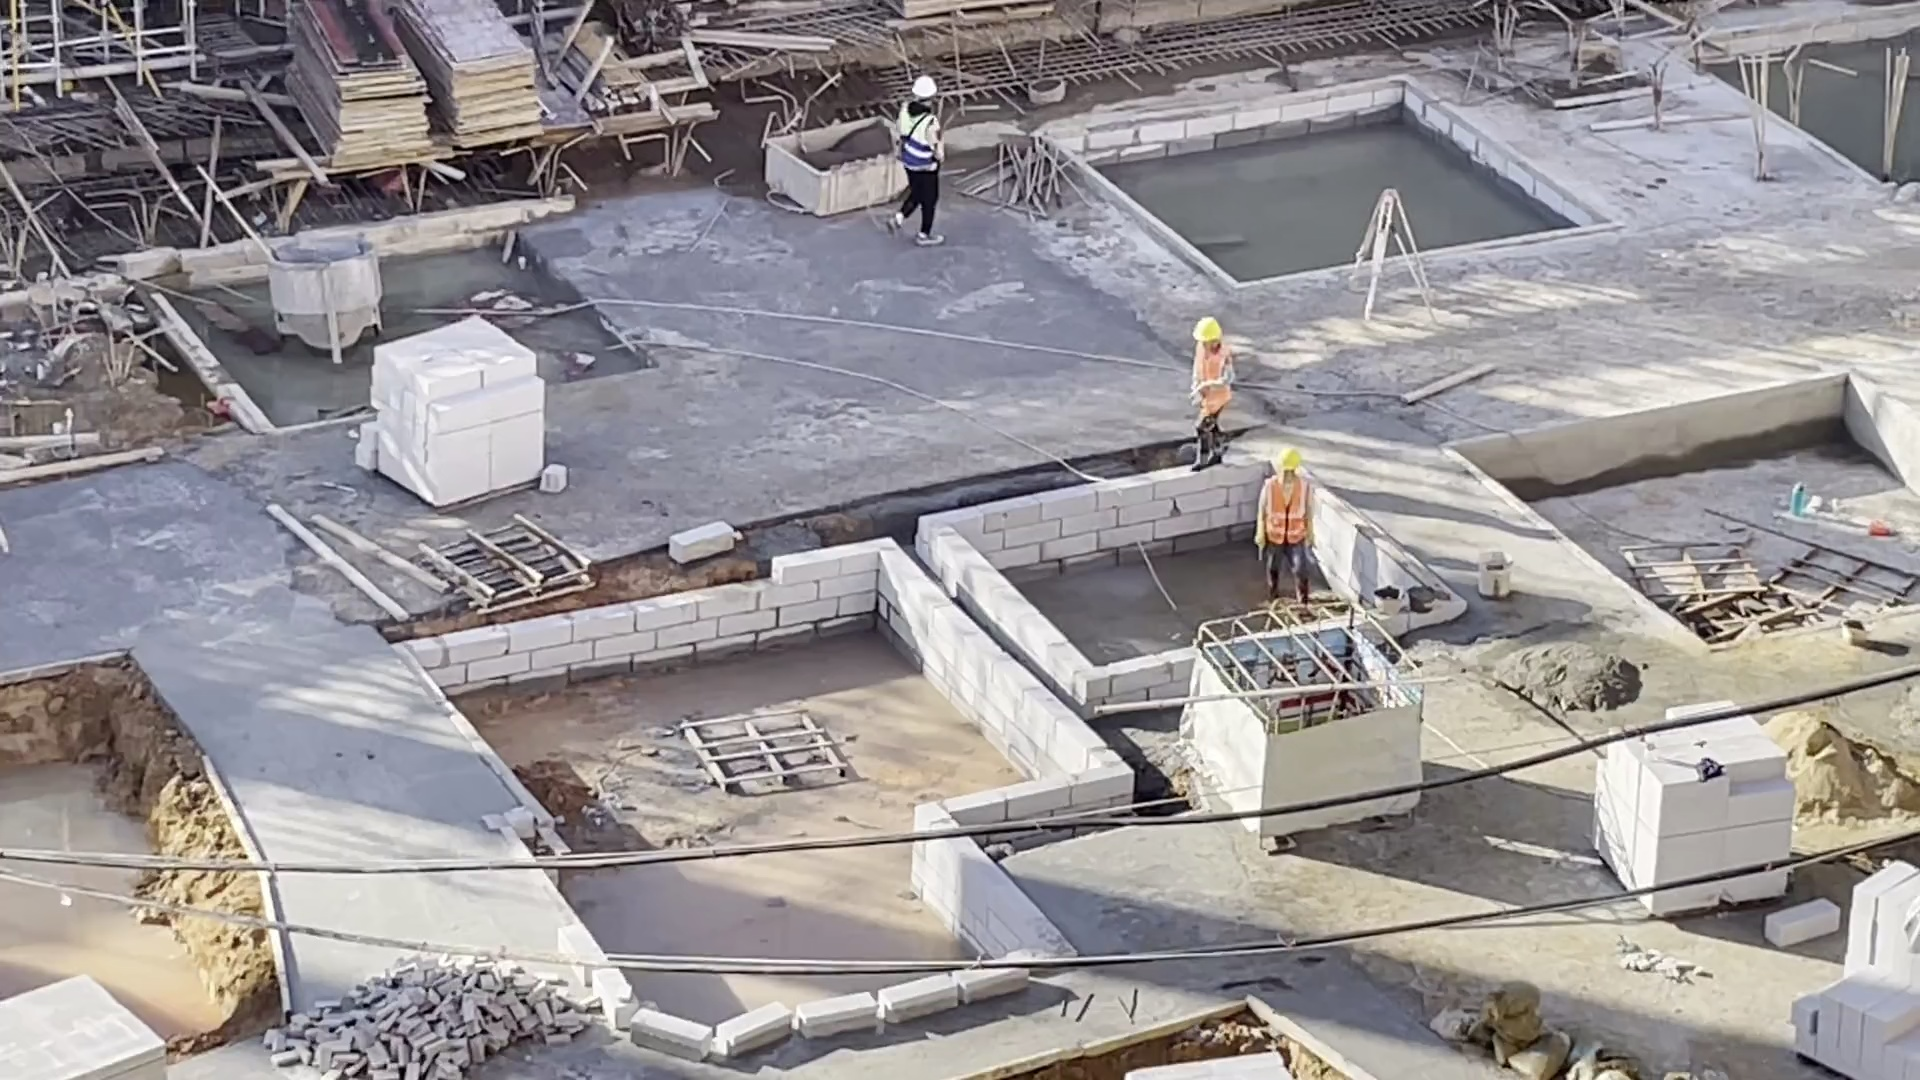board: (278, 4, 437, 164), (393, 2, 548, 156)
brick: (360, 313, 545, 512), (1779, 856, 1920, 1075), (2, 958, 196, 1080), (1580, 754, 1798, 858)
helmet: (1191, 317, 1226, 343), (1271, 445, 1301, 471), (908, 76, 937, 101)
hopper: (262, 235, 385, 367), (763, 112, 895, 215)
person: (1250, 447, 1320, 603), (890, 73, 951, 250), (1184, 313, 1241, 469)
vest: (1261, 473, 1310, 546), (1186, 341, 1233, 416), (897, 101, 941, 168)
